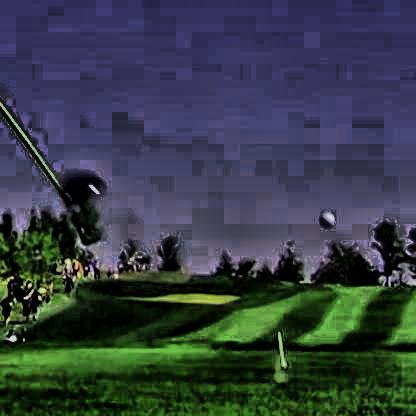golfball: (315, 206, 333, 226)
